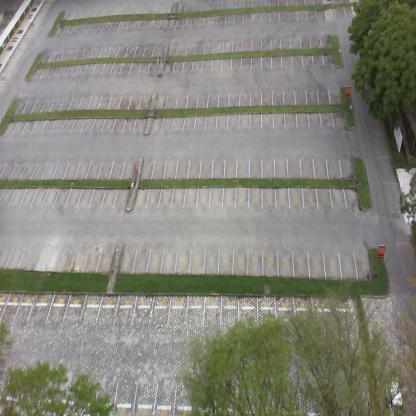car: (386, 378, 404, 415)
